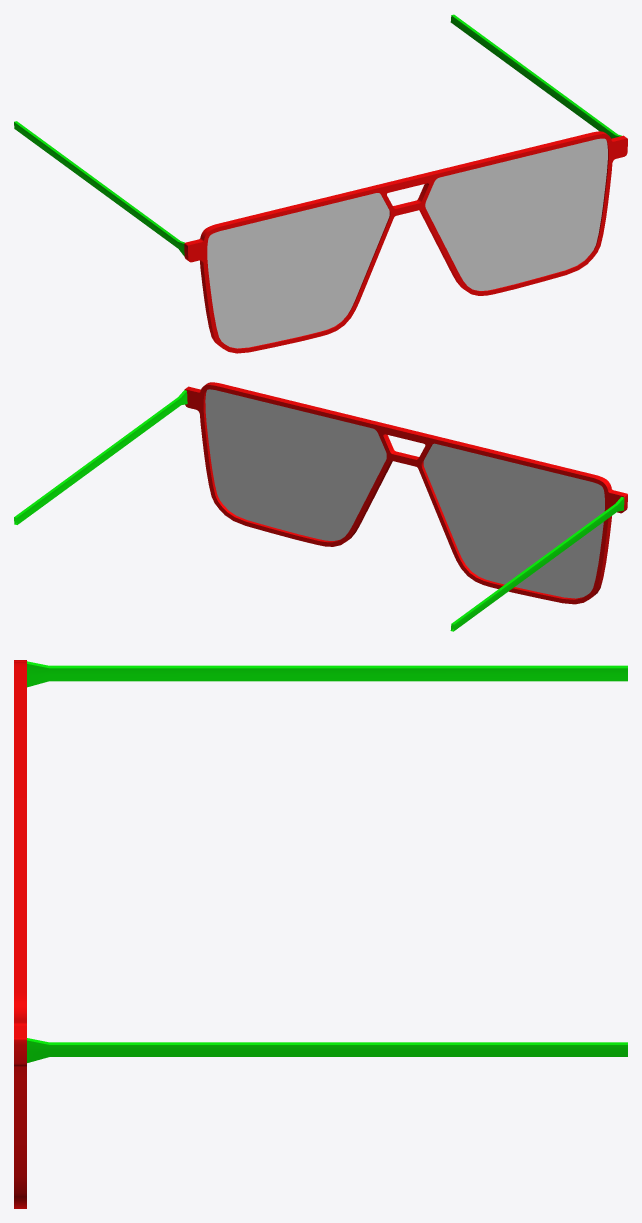
File: ZAIS NeoRetro Glasses Cutoff.fbx
3 renders of one model, top to bottom at view 1: azimuth 30°, elevation 25°; view 2: azimuth 150°, elevation 25°; view 3: azimuth 270°, elevation 25°, orthographic. The views are drawn at different scales.
Parts seen in each view (by area): view 1: Geiss NeoRetro Frames Cutoff; view 2: Geiss NeoRetro Frames Cutoff; view 3: Geiss NeoRetro Frames Cutoff.
Part boxes in pixels (<box>): Geiss NeoRetro Frames Cutoff: <box>14,14,627,353</box>; Geiss NeoRetro Frames Cutoff: <box>14,382,627,631</box>; Geiss NeoRetro Frames Cutoff: <box>14,660,627,1208</box>.
Size of the model in its own units: 0.1624 by 0.0474 by 0.1112.
